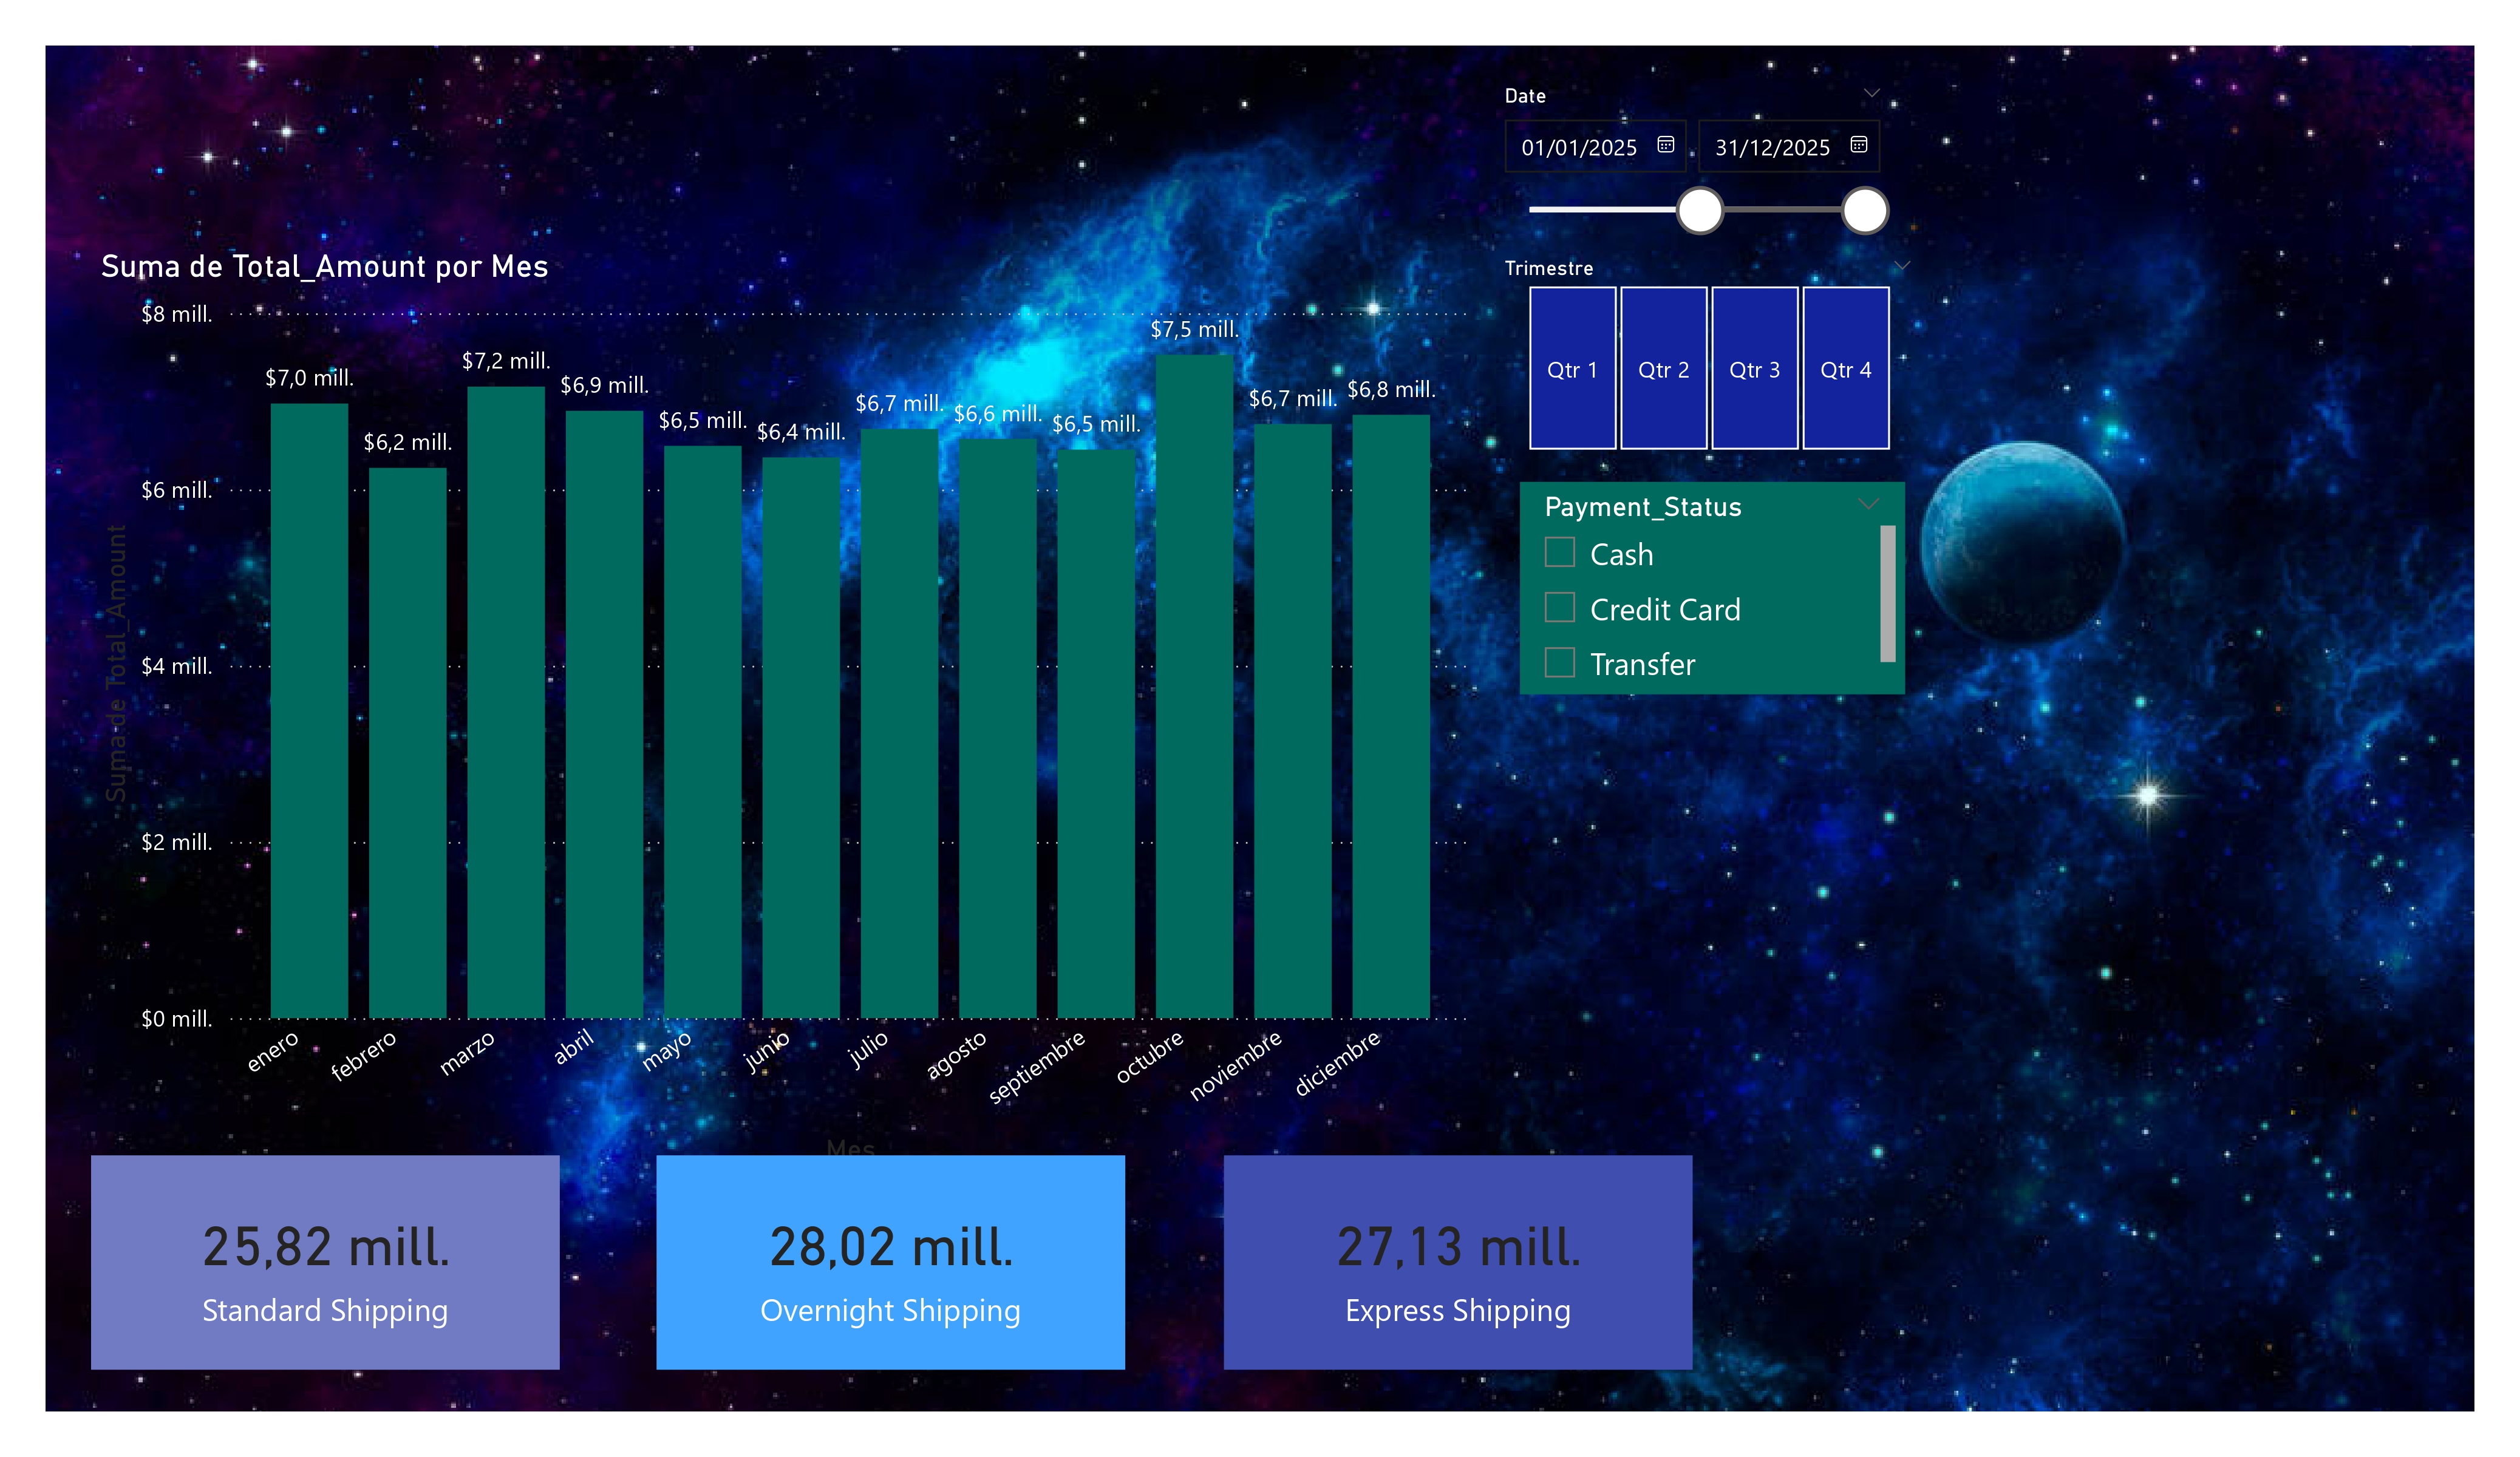

The dashboard page shown, as its layout file describes it:
{"tool":"powerbi","page":{"name":"Sales","canvas":[1280,720],"ordinal":1},"visuals":[{"type":"slicer","fields":{"Values":["Sheet1.Date"]},"box":[756.4,15.5,223.6,90.9],"z":0},{"type":"slicer","fields":{"Values":["Sheet1.Date.Variación.Jerarquía de fechas.Trimestre"]},"box":[756.4,106.4,240,113.6],"z":1000},{"type":"clusteredColumnChart","fields":{"Y":["Sum(Sheet1.Total_Amount)"],"Category":["Sheet1.Date.Variación.Jerarquía de fechas.Mes"]},"box":[23.6,106.4,732.7,489.1],"z":2000},{"type":"card","fields":{"Values":["Sheet1.Total Amount - Standard Shipping"]},"box":[23.6,584.5,247.3,113.6],"z":3000},{"type":"card","fields":{"Values":["Sheet1.Total Amount - Overnight Shipping"]},"box":[321.8,584.5,247.3,113.6],"z":4000},{"type":"card","fields":{"Values":["Sheet1.Total Amount - Express Shipping"]},"box":[620.9,584.5,247.3,113.6],"z":5000},{"type":"slicer","fields":{"Values":["Sheet1.Payment_Status"]},"box":[777.3,230,202.7,111.8],"z":6000}]}

Visuals, with their boxes on the page's 1280x720 design canvas (x1, y1, x2, y2). These are canvas units, not pixel positions in the 2520x1457 screenshot, which may show the page scaled, cropped or inside an application window:
slicer - Sheet1.Date: <box>756,16,980,106</box>
slicer - Sheet1.Date.Variación.Jerarquía de fechas.Trimestre: <box>756,106,996,220</box>
clusteredColumnChart - Sum(Sheet1.Total_Amount) x Sheet1.Date.Variación.Jerarquía de fechas.Mes: <box>24,106,756,596</box>
card - Sheet1.Total Amount - Standard Shipping: <box>24,584,271,698</box>
card - Sheet1.Total Amount - Overnight Shipping: <box>322,584,569,698</box>
card - Sheet1.Total Amount - Express Shipping: <box>621,584,868,698</box>
slicer - Sheet1.Payment_Status: <box>777,230,980,342</box>
